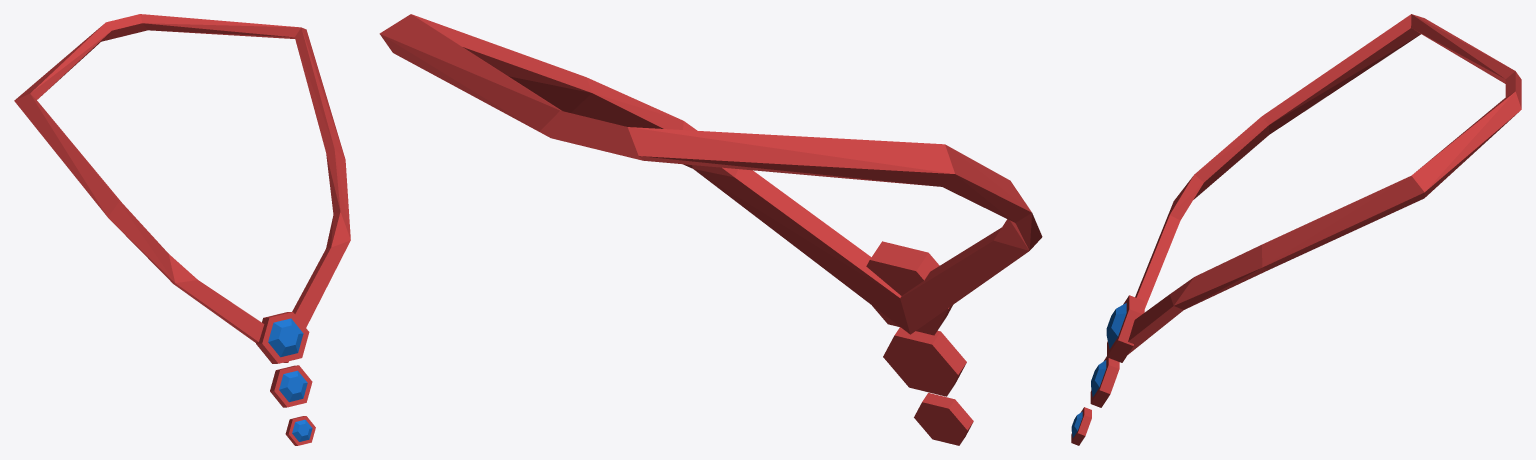
The model's file is SM_necklace_9.fbx.
3 views of the same model, side by side, from view 1: azimuth 30°, elevation 25°; view 2: azimuth 150°, elevation 25°; view 3: azimuth 270°, elevation 25° (orthographic). The views are drawn at different scales.
Visible parts, largest first — view 1: Symmetry_1; view 2: Symmetry_1; view 3: Symmetry_1.
Boxes of the visible parts, x1,y1,x2,y2 form: Symmetry_1: [14, 14, 350, 445]; Symmetry_1: [379, 14, 1042, 445]; Symmetry_1: [1071, 14, 1521, 445].
Bounding box in the file's own units: 22 × 21.23 × 24.03.
